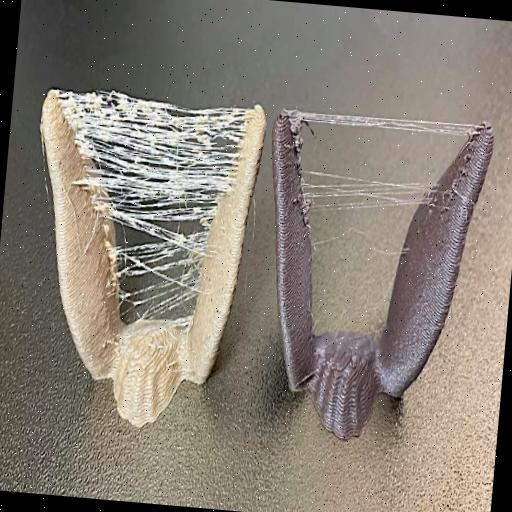stringing: (60, 91, 256, 321), (291, 108, 483, 157), (302, 168, 439, 221)
